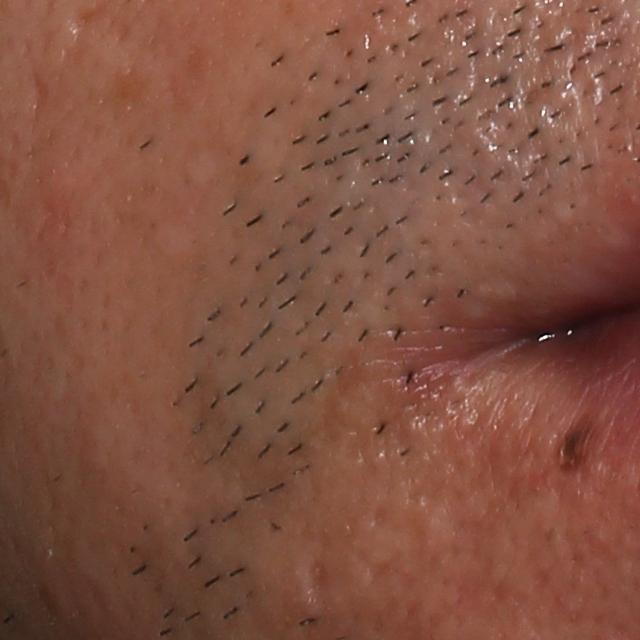atrophic_scar: (303, 347, 374, 459), (370, 505, 433, 562), (63, 4, 111, 41), (29, 71, 54, 133), (303, 557, 332, 608)
nevus: (556, 416, 608, 480)
